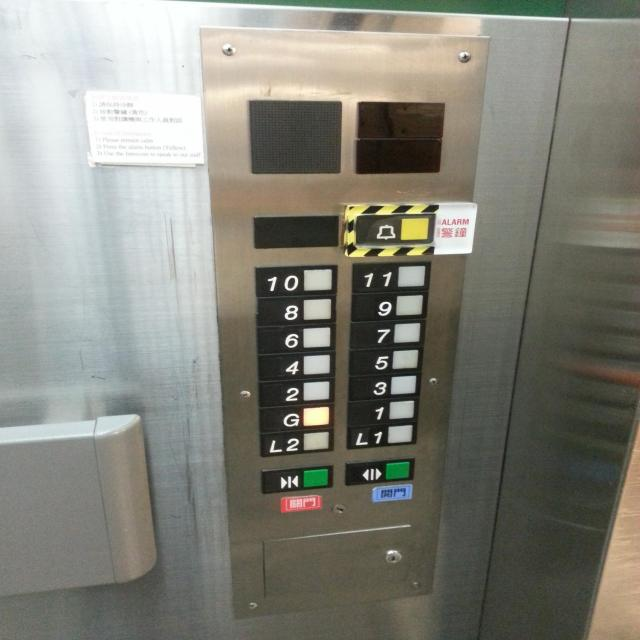1: (345, 396, 422, 426)
10: (254, 260, 339, 298)
11: (349, 258, 434, 294)
2: (255, 375, 337, 407)
3: (345, 372, 423, 402)
4: (255, 348, 337, 383)
5: (346, 343, 427, 376)
6: (254, 322, 337, 357)
7: (348, 319, 430, 351)
8: (254, 294, 337, 326)
9: (348, 288, 431, 324)
G: (256, 402, 336, 436)
L1: (344, 419, 420, 451)
L2: (258, 426, 338, 459)
alarm: (353, 210, 437, 249)
close: (259, 462, 335, 495)
keyhole: (384, 550, 402, 562), (331, 503, 347, 515)
led: (354, 99, 446, 139), (354, 137, 443, 175), (251, 213, 339, 250)
open: (343, 453, 418, 486)
